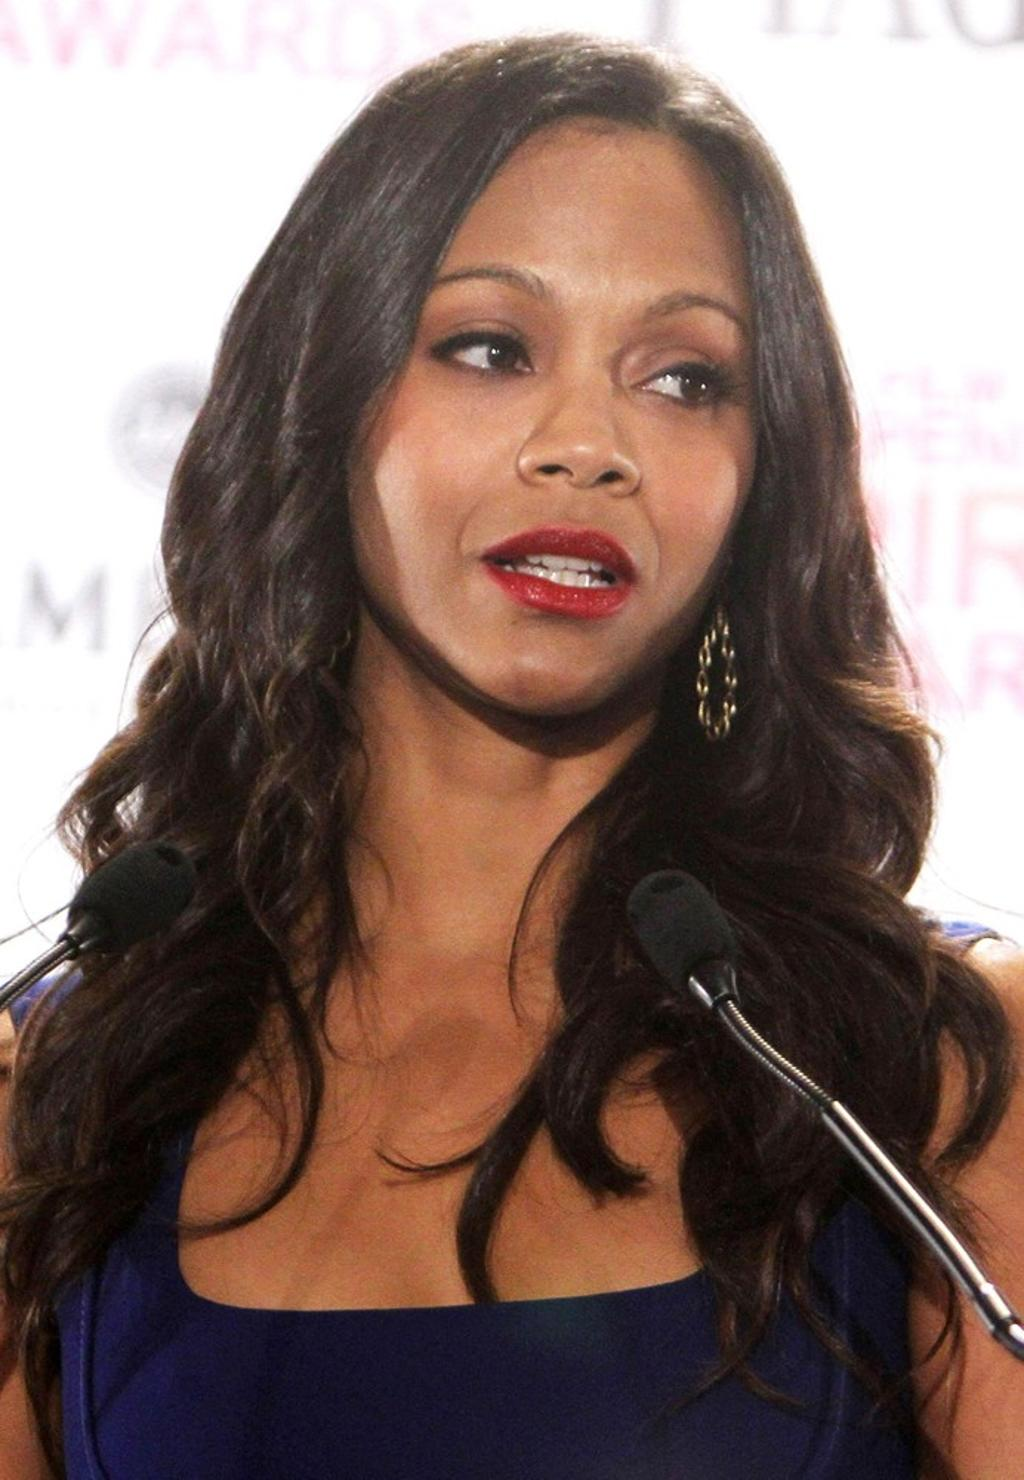face: (338, 113, 757, 700)
